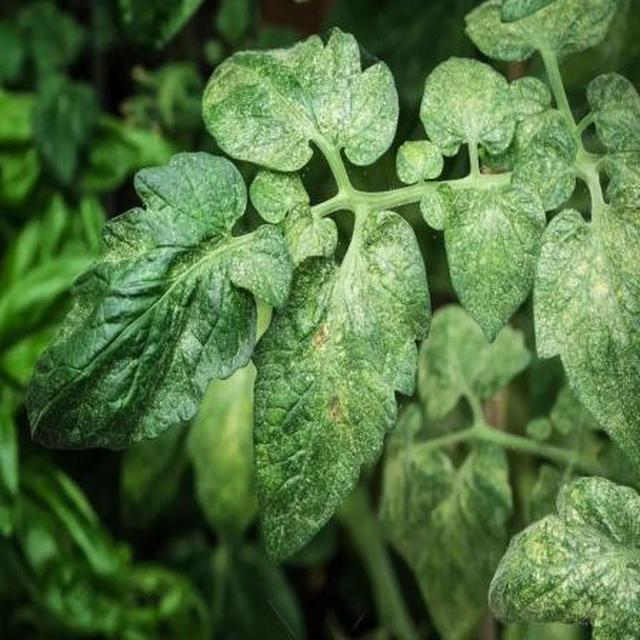Spider Mites Leaf: (141, 141, 640, 640)
